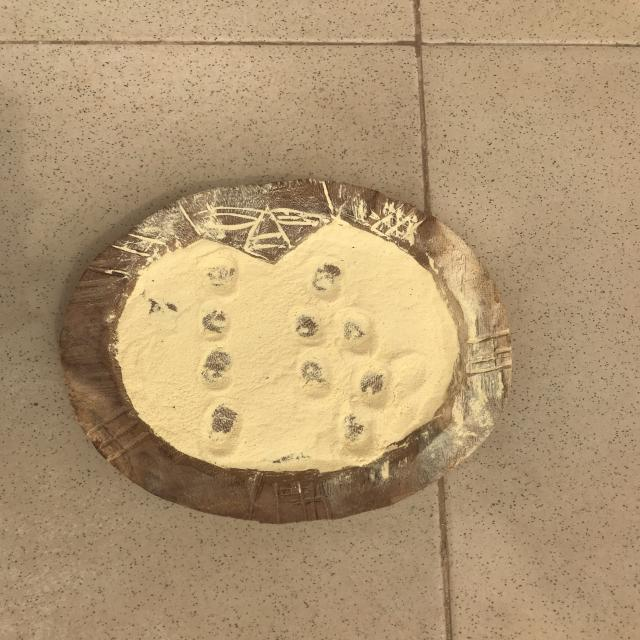double: (294, 350, 396, 408), (290, 302, 380, 358)
single: (334, 400, 381, 460), (199, 397, 245, 452), (195, 346, 238, 396), (198, 251, 242, 299), (308, 257, 346, 304), (196, 300, 236, 344)
